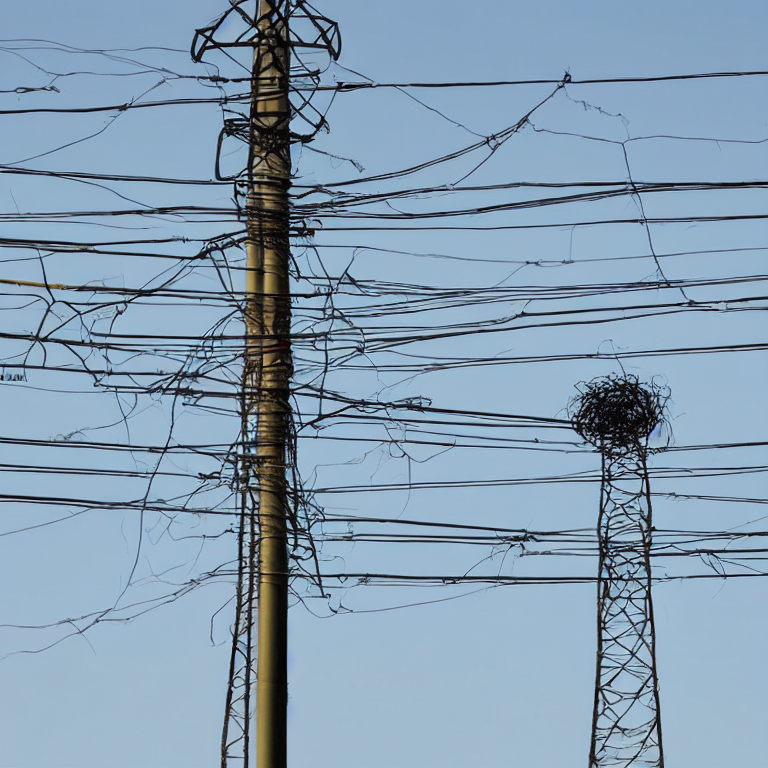nest: (577, 384, 663, 442)
